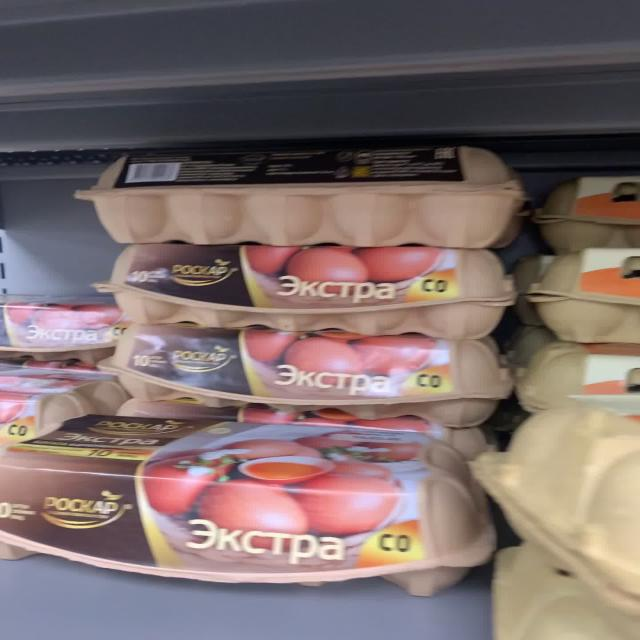egg box: (0, 425, 490, 595), (107, 328, 519, 428), (94, 242, 512, 340)
